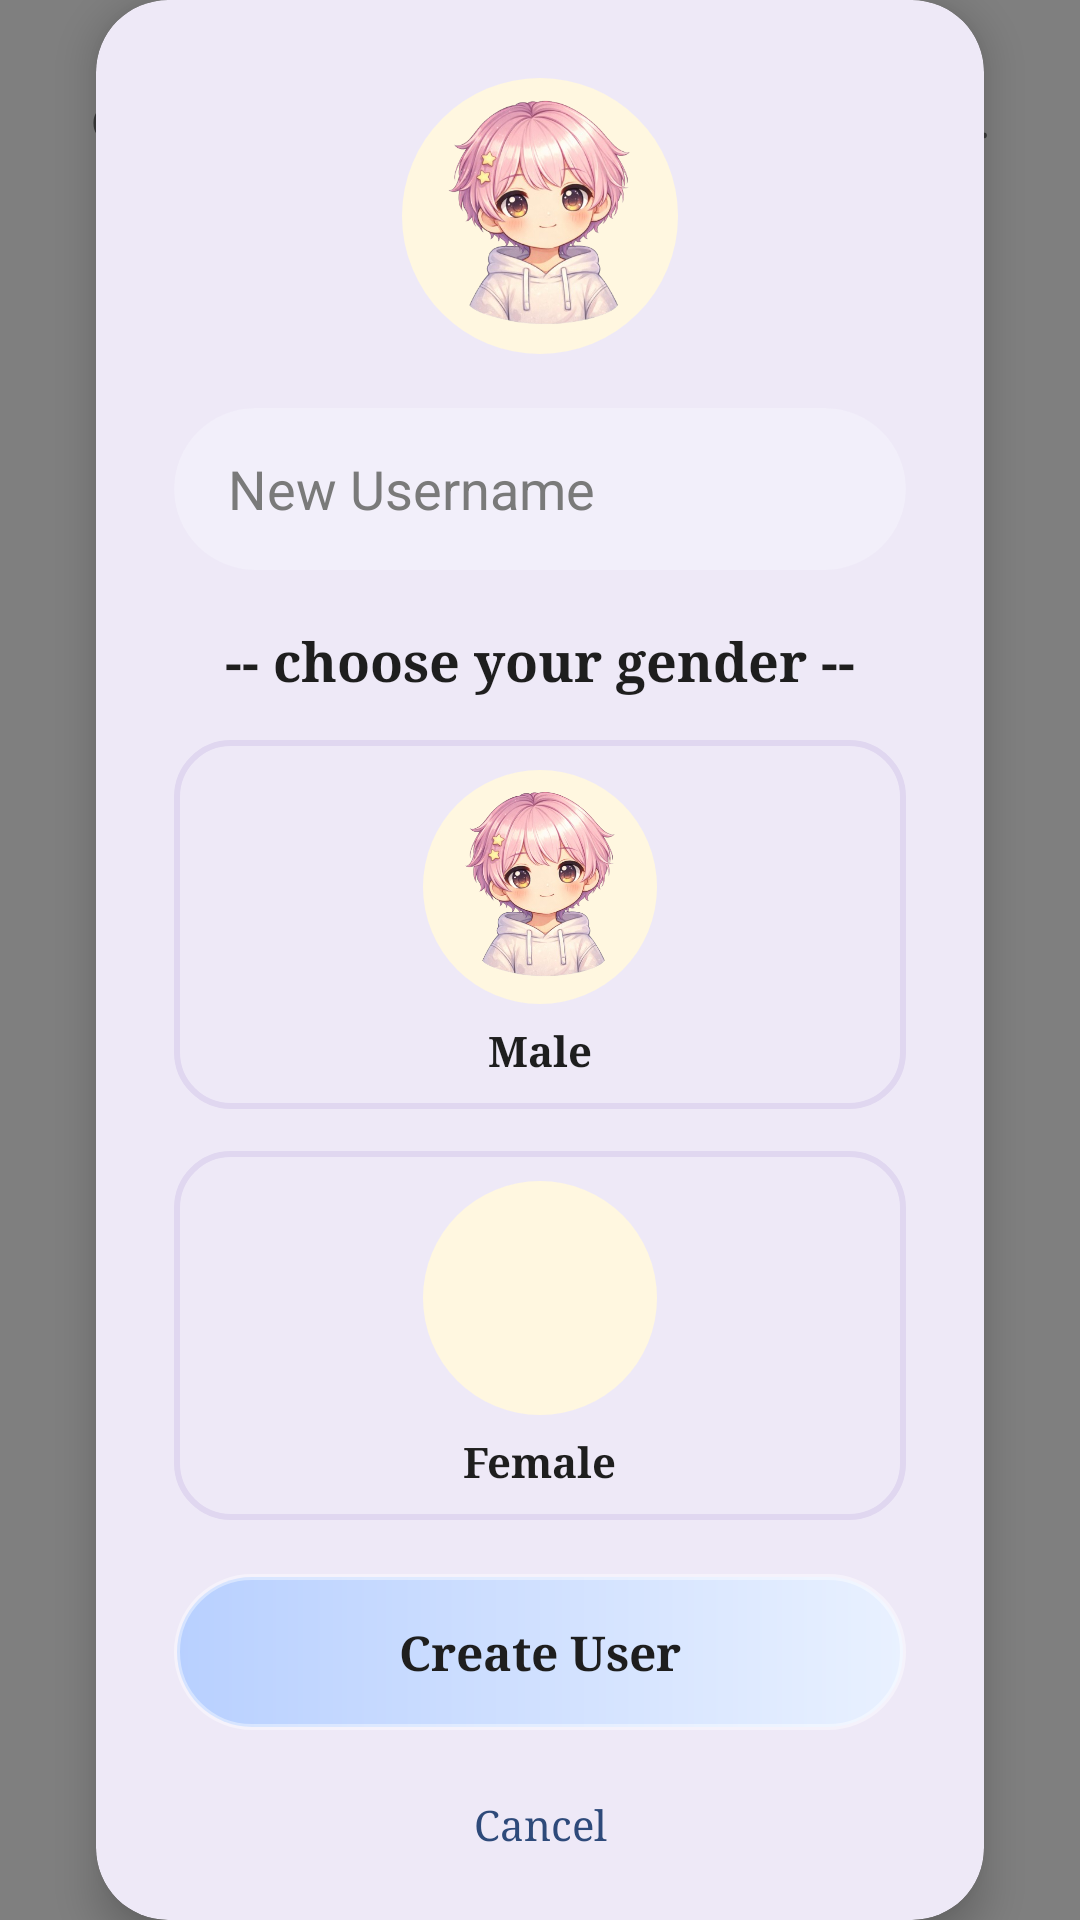

Named icons in this screenshot (1080x1920) and their centers, [x,y]:
boy: [539,212], [540,884]
